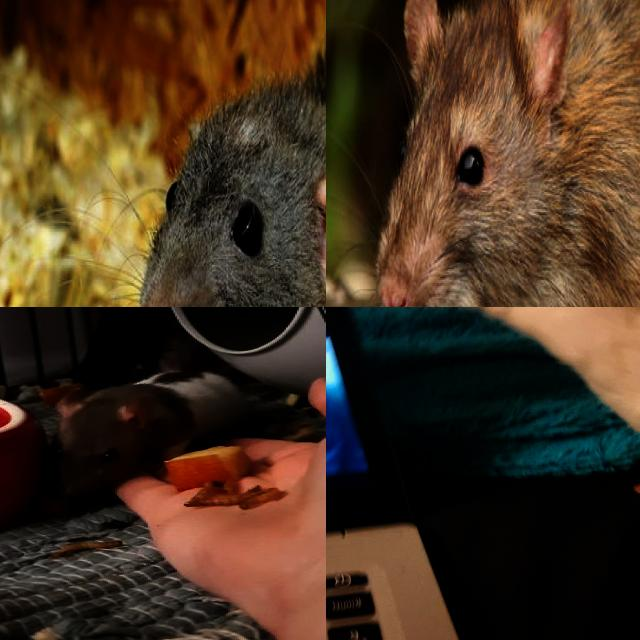rat: (363, 0, 640, 307), (326, 307, 640, 570), (137, 14, 326, 307), (52, 367, 248, 503)
